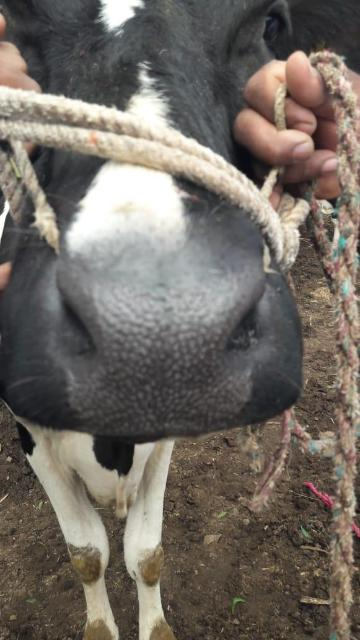Muzzle: (76, 252, 234, 420)
